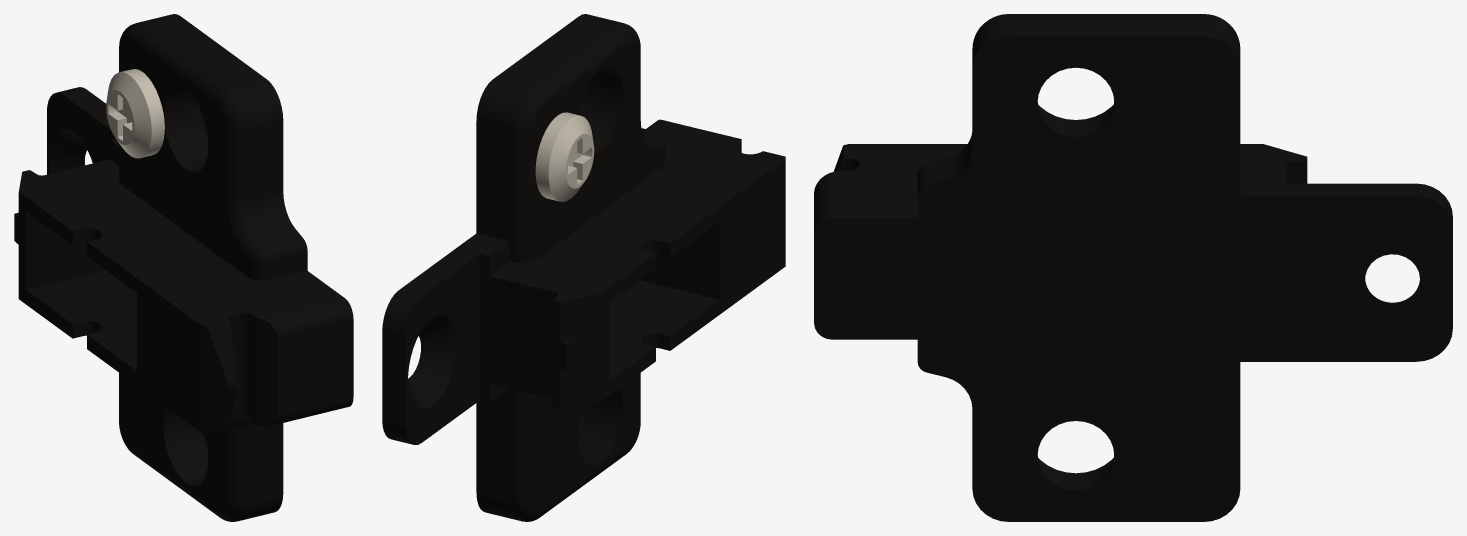
3 renders of one model, left to right at view 1: azimuth 30°, elevation 25°; view 2: azimuth 150°, elevation 25°; view 3: azimuth 270°, elevation 25°, orthographic. The views are drawn at different scales.
Parts seen in each view (by area): view 1: bau0006173292; view 2: bau0006173292; view 3: bau0006173292.
Boxes of the visible parts, x1=… form: bau0006173292: x1=14, y1=14, x2=353, y2=521; bau0006173292: x1=382, y1=14, x2=785, y2=521; bau0006173292: x1=814, y1=14, x2=1452, y2=521.
Size of the model in its own units: 14.5 by 44 by 52.45.
